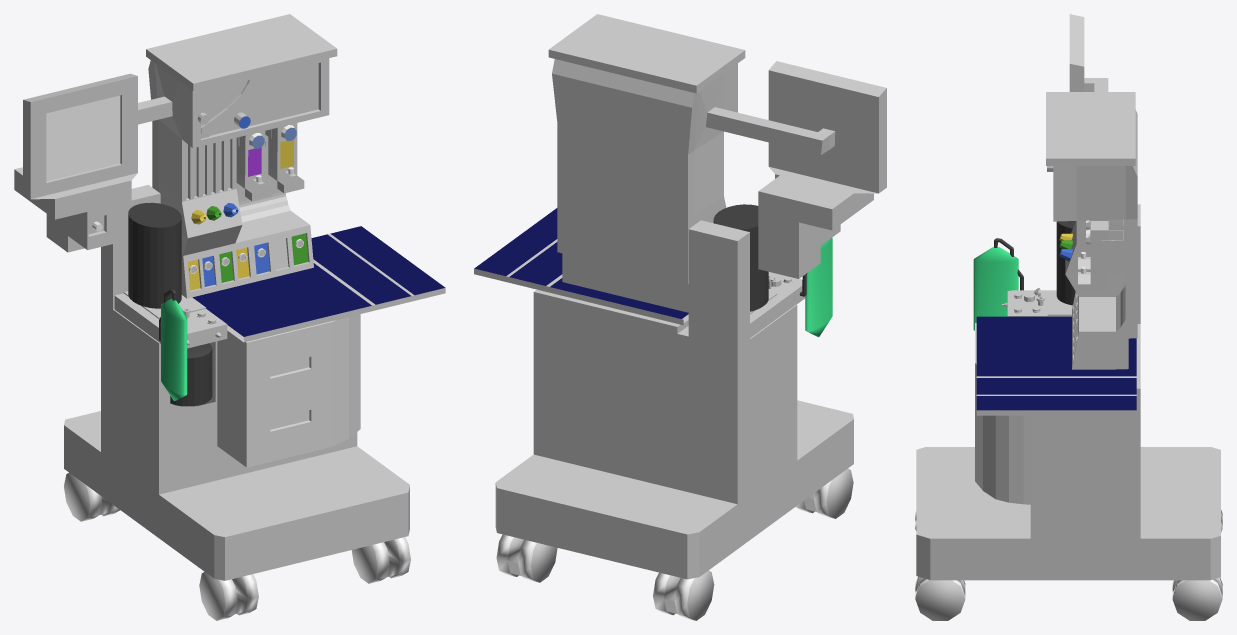
The model's file is MaquinaAnestesia.fbx.
3 views of the same model, side by side, from view 1: azimuth 30°, elevation 25°; view 2: azimuth 150°, elevation 25°; view 3: azimuth 270°, elevation 25° (orthographic). The views are drawn at different scales.
Visible parts, largest first — view 1: Base, Estructura, Pantalla, Tabla, Cajon1, Cajon2, Cylinder.001, CajonSup, Cilindro.001, Rueda.006, Rueda.005, Pieza.001 (+2 smaller); view 2: Base, Estructura, Pantalla, Tabla, Rueda.004, Rueda, Cylinder.001, Cilindro.001, Rueda.006; view 3: Base, Estructura, Tabla, Cajon2, Cilindro.001, Pieza.001, Cajon1, Rueda.005, Rueda, Pantalla, Cylinder.001, Pieza.
Boxes of the visible parts, left/top/right/bottom form: Base: left=64, top=185, right=409, bottom=580; Estructura: left=138, top=14, right=337, bottom=298; Pantalla: left=14, top=73, right=137, bottom=252; Tabla: left=192, top=226, right=445, bottom=342; Cajon1: left=209, top=323, right=360, bottom=414; Cajon2: left=197, top=376, right=360, bottom=467; Cylinder.001: left=128, top=202, right=181, bottom=308; CajonSup: left=219, top=314, right=360, bottom=361; Cilindro.001: left=161, top=298, right=187, bottom=400; Rueda.006: left=199, top=572, right=258, bottom=620; Rueda.005: left=351, top=537, right=410, bottom=583; Pieza.001: left=265, top=123, right=304, bottom=193; Base: left=495, top=220, right=853, bottom=579; Estructura: left=548, top=14, right=835, bottom=312; Pantalla: left=758, top=61, right=886, bottom=278; Tabla: left=474, top=208, right=688, bottom=325; Rueda.004: left=653, top=570, right=714, bottom=620; Rueda: left=496, top=534, right=557, bottom=582; Cylinder.001: left=713, top=204, right=768, bottom=311; Cilindro.001: left=805, top=238, right=832, bottom=337; Rueda.006: left=796, top=468, right=853, bottom=518; Base: left=916, top=204, right=1220, bottom=580; Estructura: left=1046, top=78, right=1137, bottom=369; Tabla: left=976, top=316, right=1136, bottom=415; Cajon2: left=975, top=431, right=1030, bottom=504; Cilindro.001: left=973, top=247, right=1018, bottom=330; Pieza.001: left=1078, top=221, right=1123, bottom=291; Cajon1: left=975, top=381, right=1030, bottom=454; Rueda.005: left=915, top=576, right=965, bottom=620; Rueda: left=1172, top=577, right=1222, bottom=620; Pantalla: left=1069, top=14, right=1084, bottom=91; Cylinder.001: left=1056, top=221, right=1075, bottom=305; Pieza: left=1078, top=219, right=1123, bottom=271.
Size of the model in its own units: 847 by 1092 by 649.
